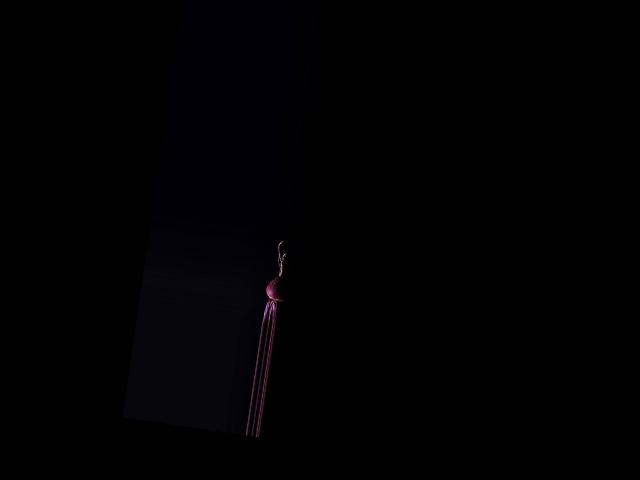beet: (260, 239, 295, 327)
